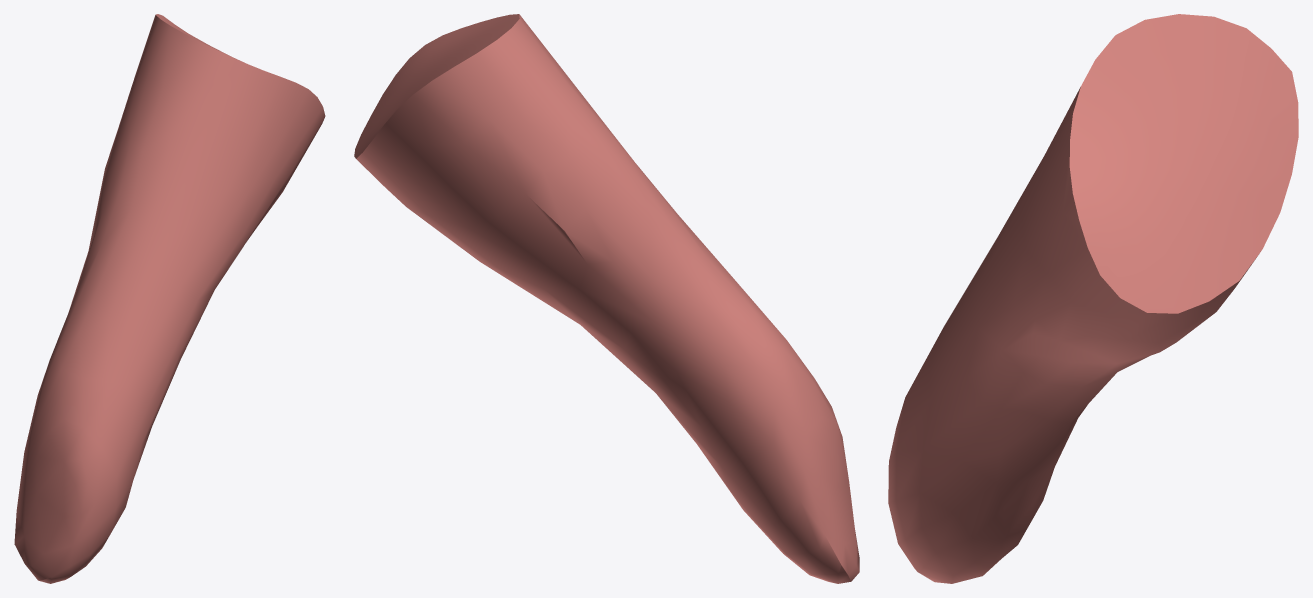
The model's file is fma39267-f_mm1933.glb.
The picture shows the model from 3 angles, left to right: view 1: azimuth 30°, elevation 25°; view 2: azimuth 150°, elevation 25°; view 3: azimuth 270°, elevation 25°; orthographic projection. The views are drawn at different scales.
Visible parts, largest first — view 1: FMA39267-F_MM1933; view 2: FMA39267-F_MM1933; view 3: FMA39267-F_MM1933.
Boxes of the visible parts, bbox=[...] form: FMA39267-F_MM1933: bbox=[14, 14, 325, 583]; FMA39267-F_MM1933: bbox=[354, 14, 859, 583]; FMA39267-F_MM1933: bbox=[888, 14, 1298, 583].
Bounding box in the file's own units: 0.00886 × 0.0112 × 0.00583.
